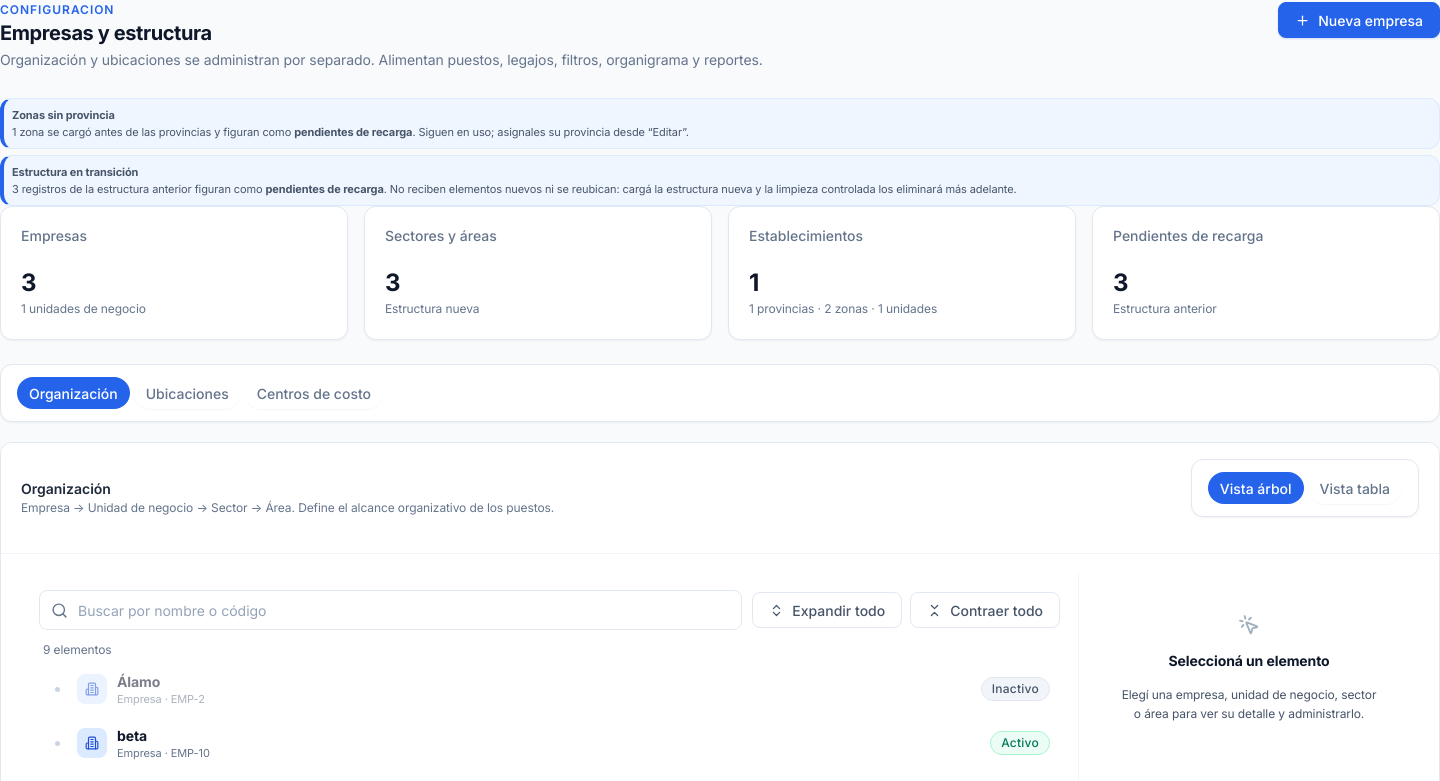
Scenario: OrgStructurePage — secciones separadas › Centros de costo se administra en su propia sección, en tabla
Click the button "Centros de costo" at [314, 393], box [245,377,383,409]
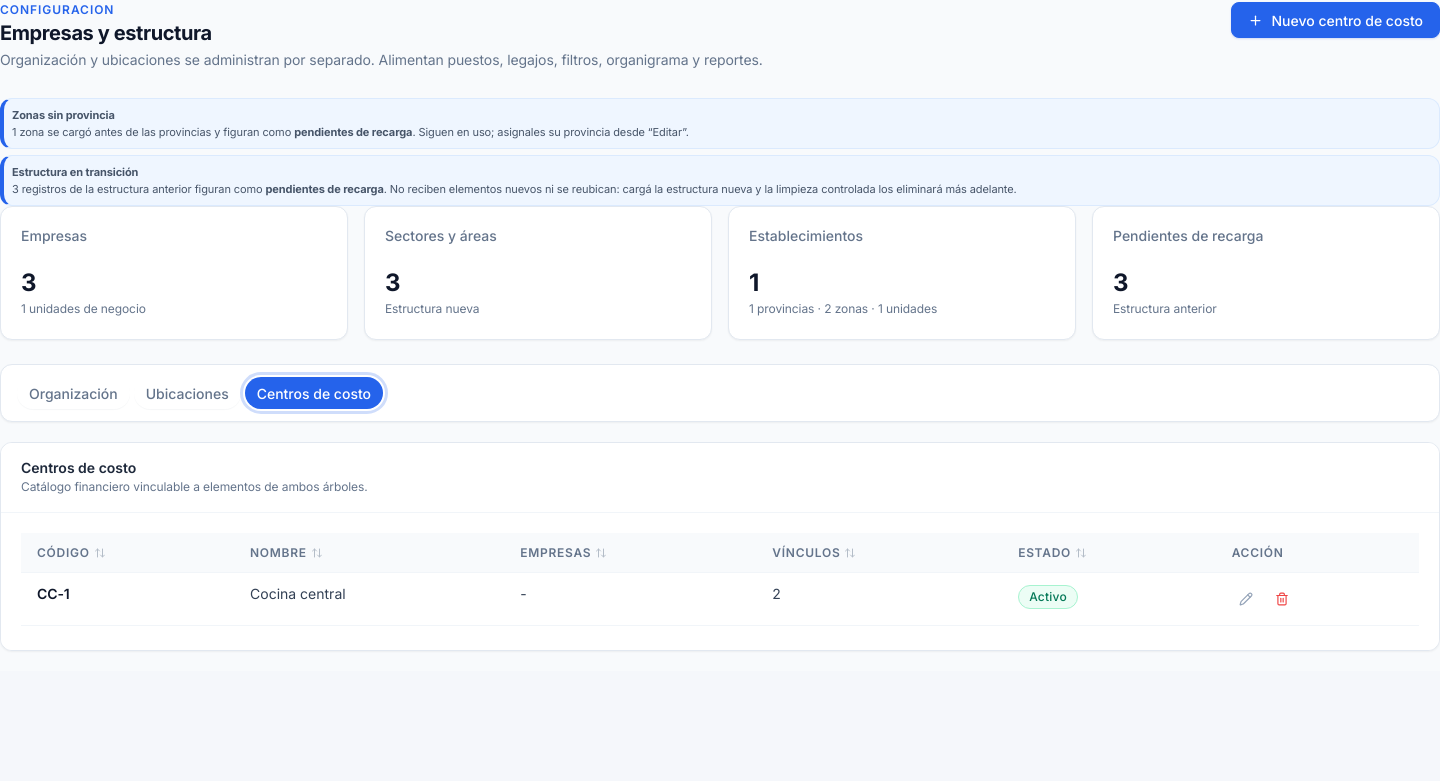
Expected: the table is shown, [21,533,1419,626]
Expected: the text "Cocina central" is shown, [250,585,346,602]
